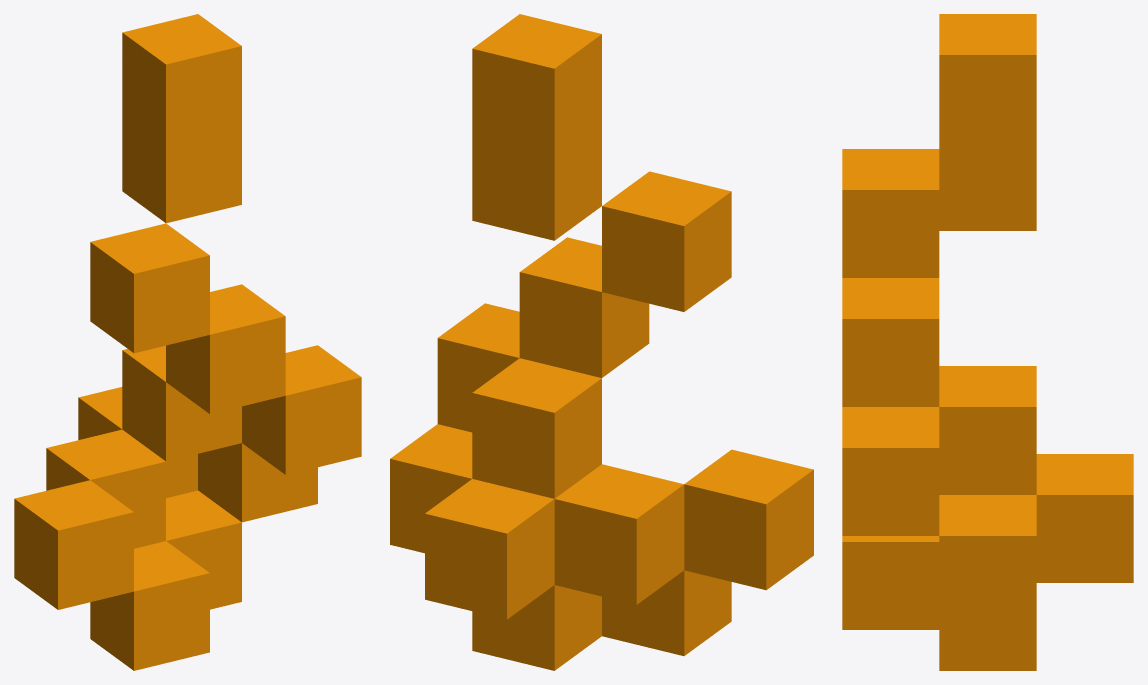
File: VoxelEffects_Fire_01.FBX
The picture shows the model from 3 angles, left to right: view 1: azimuth 30°, elevation 25°; view 2: azimuth 150°, elevation 25°; view 3: azimuth 270°, elevation 25°; orthographic projection. The views are drawn at different scales.
Visible parts, largest first — view 1: VoxelEffects_Fire_01; view 2: VoxelEffects_Fire_01; view 3: VoxelEffects_Fire_01.
Part boxes in pixels (left/top/right/bottom): VoxelEffects_Fire_01: left=14, top=14, right=361, bottom=670; VoxelEffects_Fire_01: left=390, top=14, right=813, bottom=670; VoxelEffects_Fire_01: left=842, top=14, right=1133, bottom=670.
Bounding box in the file's own units: 40 × 70 × 30.
